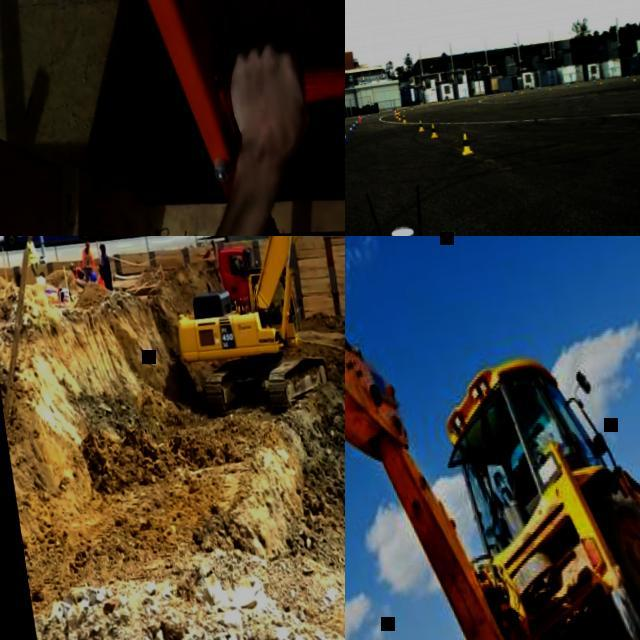helmet: (84, 240, 90, 247), (69, 262, 74, 268), (40, 271, 44, 276), (27, 236, 33, 239)
vest: (26, 240, 39, 264), (81, 249, 95, 271), (73, 267, 83, 280), (36, 276, 46, 286), (98, 275, 104, 286)
